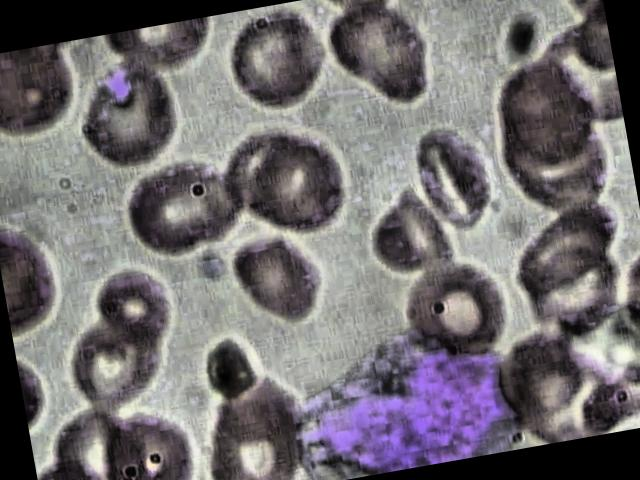RBC: (100, 140, 262, 274), (68, 52, 194, 180), (387, 258, 518, 378), (216, 0, 339, 122), (321, 0, 448, 116), (231, 121, 355, 239), (218, 221, 339, 331), (199, 374, 314, 480), (405, 119, 506, 234), (89, 401, 203, 480), (89, 259, 178, 348)
WBC: (282, 303, 529, 480)
